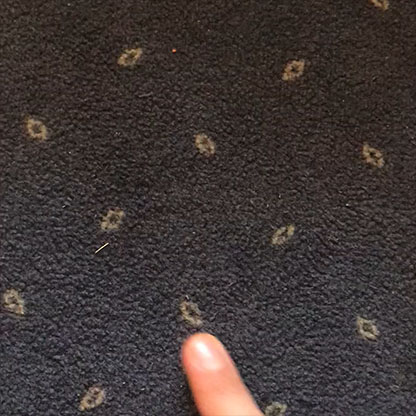fingertip: (167, 320, 244, 379)
